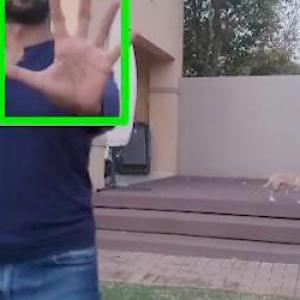follow_hand: (0, 0, 144, 117)
